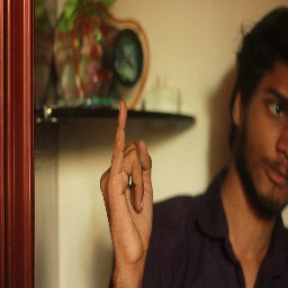I: (98, 97, 156, 248)
